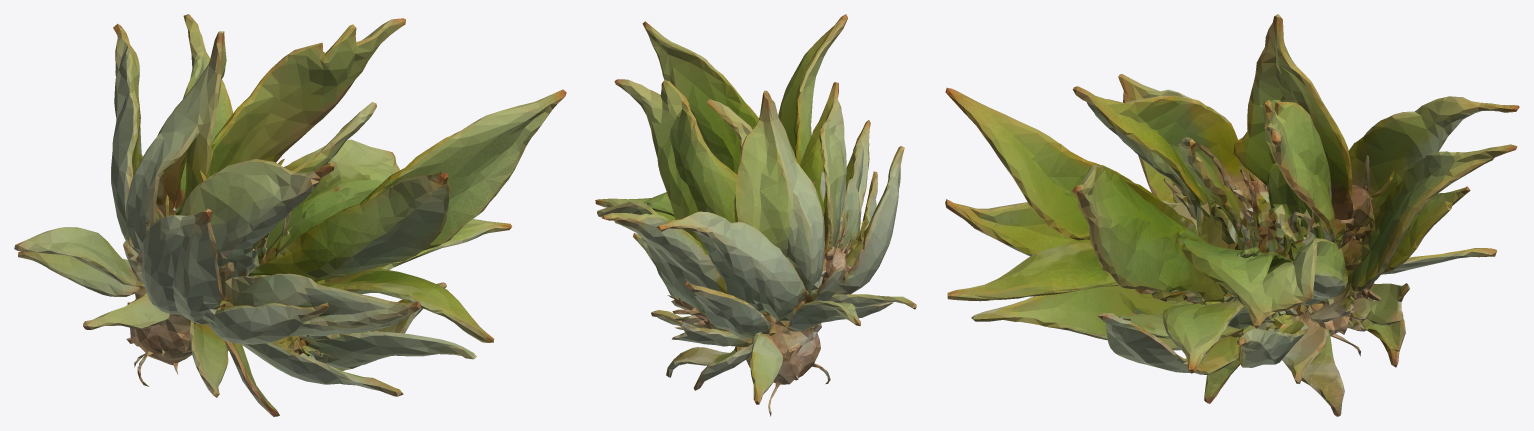
File: head (65).glb
3 views of the same model, side by side, from view 1: azimuth 30°, elevation 25°; view 2: azimuth 150°, elevation 25°; view 3: azimuth 270°, elevation 25° (orthographic). The views are drawn at different scales.
Visible parts, largest first — view 1: Hy21_Mesh.obj; view 2: Hy21_Mesh.obj; view 3: Hy21_Mesh.obj.
Part boxes in pixels (<box>): Hy21_Mesh.obj: <box>14,14,566,416</box>; Hy21_Mesh.obj: <box>595,14,916,416</box>; Hy21_Mesh.obj: <box>945,14,1519,416</box>.
Size of the model in its own units: 1.65 by 1.42 by 1.95.
Materials: 1 (1 with a texture image).
